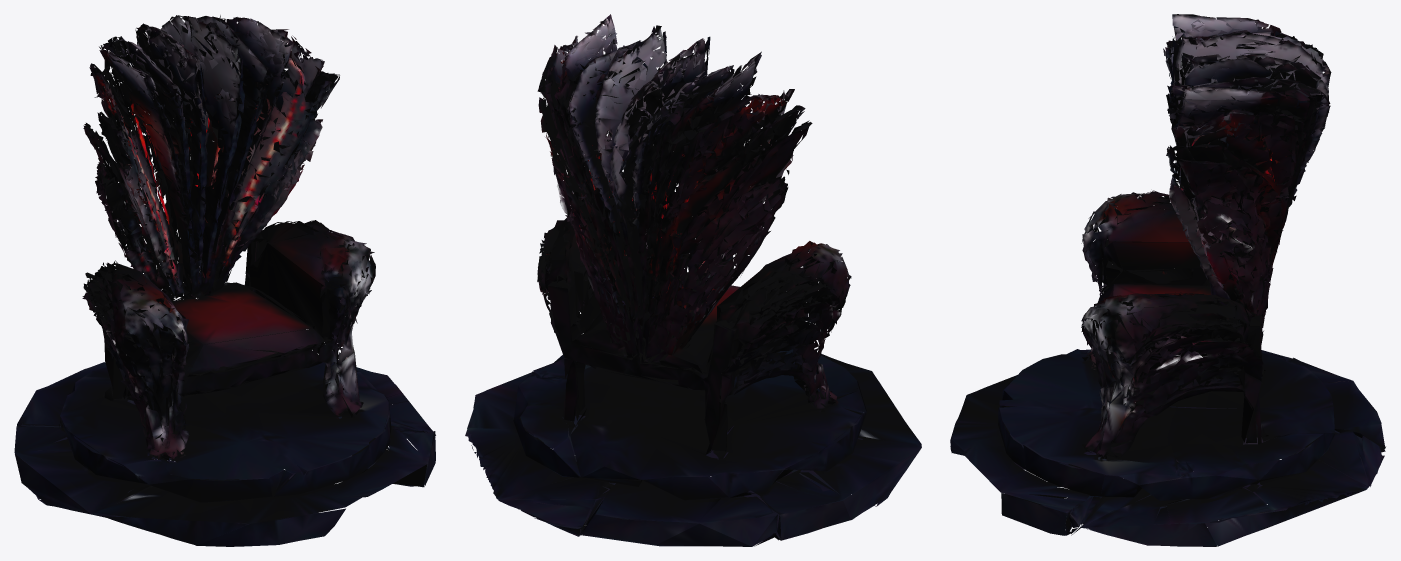
File: iron_throne.glb
3 views of the same model, side by side, from view 1: azimuth 30°, elevation 25°; view 2: azimuth 150°, elevation 25°; view 3: azimuth 270°, elevation 25° (orthographic). The views are drawn at different scales.
Parts seen in each view (by area): view 1: iron_throne_body; view 2: iron_throne_body; view 3: iron_throne_body.
Boxes of the visible parts, bbox=[...] form: iron_throne_body: bbox=[14, 15, 435, 546]; iron_throne_body: bbox=[465, 14, 921, 546]; iron_throne_body: bbox=[950, 14, 1385, 546].
Size of the model in its own units: 5.15 by 5.53 by 5.21.
Materials: 1 (1 with a texture image).
